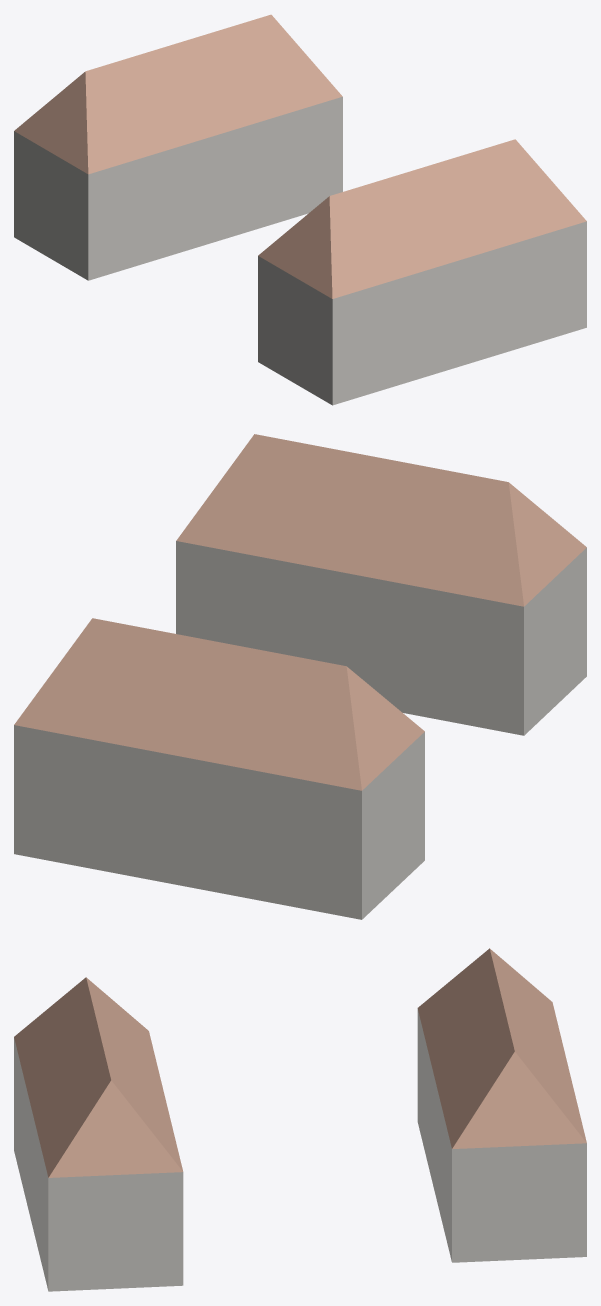
Rendered from gridID_42.dae.
3 views of the same model, one above another, from view 1: azimuth 30°, elevation 25°; view 2: azimuth 150°, elevation 25°; view 3: azimuth 270°, elevation 25° (orthographic). The views are drawn at different scales.
Visible parts, largest first — view 1: model_gridID_42_w376378595, model_gridID_42_w376378535; view 2: model_gridID_42_w376378535, model_gridID_42_w376378595; view 3: model_gridID_42_w376378535, model_gridID_42_w376378595.
Part boxes in pixels (x1=…): model_gridID_42_w376378595: x1=258, y1=139, x2=586, y2=405; model_gridID_42_w376378535: x1=14, y1=14, x2=342, y2=280; model_gridID_42_w376378535: x1=14, y1=618, x2=424, y2=919; model_gridID_42_w376378595: x1=176, y1=434, x2=586, y2=735; model_gridID_42_w376378535: x1=417, y1=948, x2=586, y2=1262; model_gridID_42_w376378595: x1=14, y1=977, x2=183, y2=1291.
Size of the model in its own units: 24.88 by 34.26 by 12.5.
